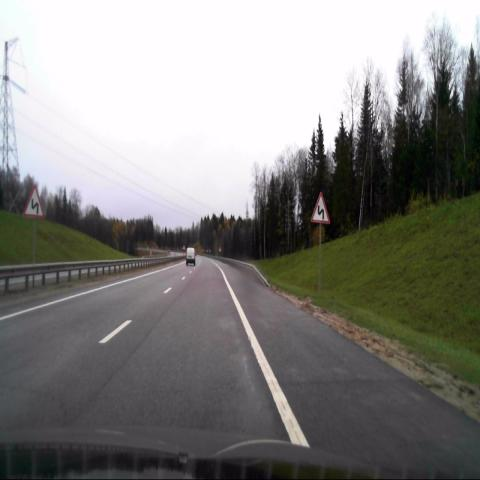1_12_2: (23, 185, 44, 217), (310, 191, 330, 223)
